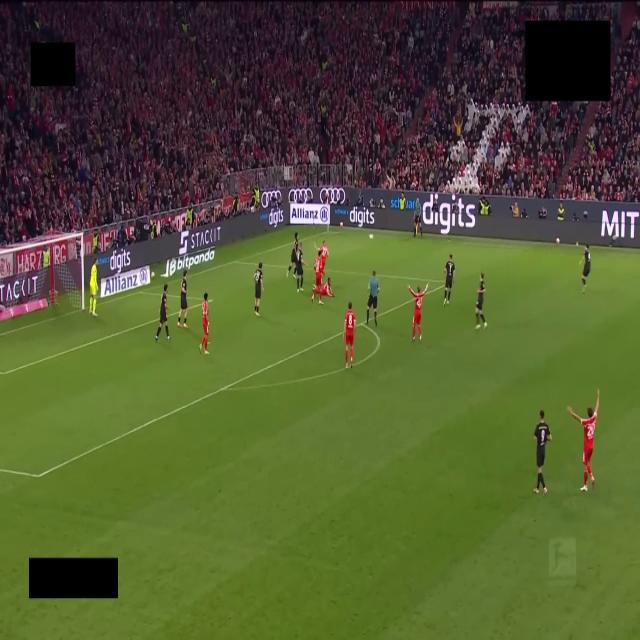ball: (369, 234, 373, 239)
player: (568, 390, 599, 491), (534, 410, 551, 494), (409, 285, 428, 341), (156, 284, 170, 341), (344, 302, 355, 367), (443, 255, 455, 305), (178, 270, 188, 328), (476, 273, 486, 328), (312, 279, 333, 304), (287, 232, 299, 275), (294, 243, 304, 292), (200, 293, 208, 354), (581, 245, 591, 293), (254, 263, 263, 316), (90, 258, 98, 316), (316, 240, 328, 274), (314, 251, 322, 287)
referee: (367, 271, 379, 326)
